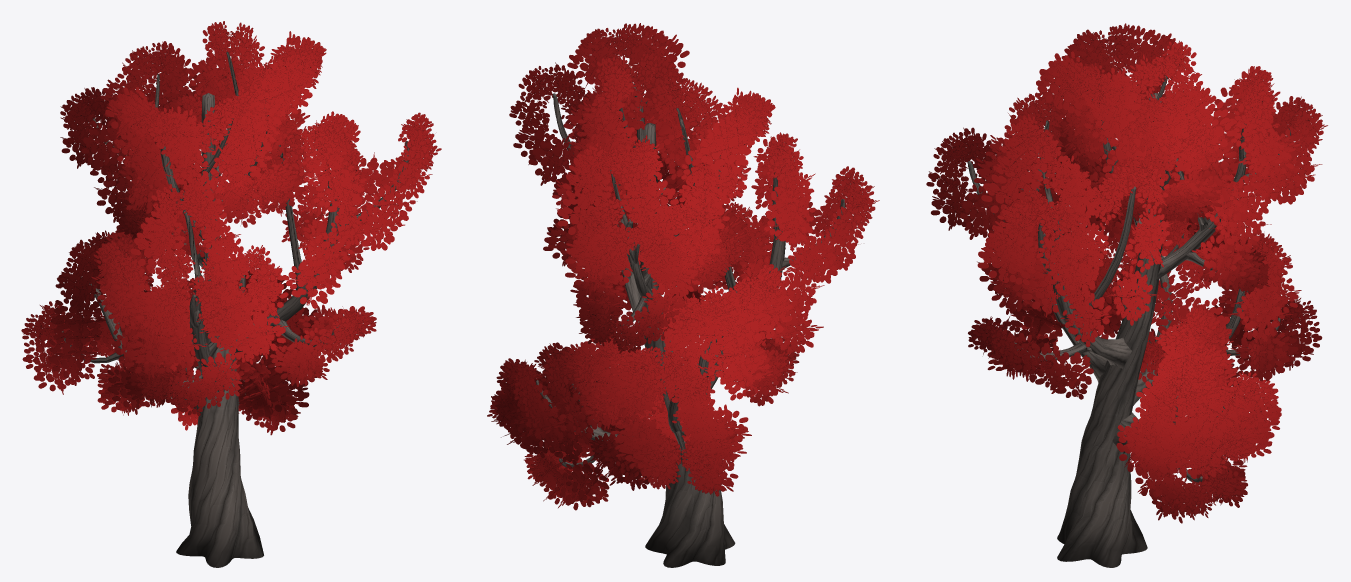
The model's file is TwistedTree_3.gltf.
The picture shows the model from 3 angles, left to right: view 1: azimuth 30°, elevation 25°; view 2: azimuth 150°, elevation 25°; view 3: azimuth 270°, elevation 25°; orthographic projection. The views are drawn at different scales.
Parts seen in each view (by area): view 1: TwistedTree_3; view 2: TwistedTree_3; view 3: TwistedTree_3.
Part boxes in pixels (x1,y1,x2,y2): TwistedTree_3: [21, 21, 441, 567]; TwistedTree_3: [487, 23, 879, 567]; TwistedTree_3: [926, 23, 1327, 567].
Bounding box in the file's own units: 11.36 × 16.07 × 11.51.
2 materials, 2 textured.
